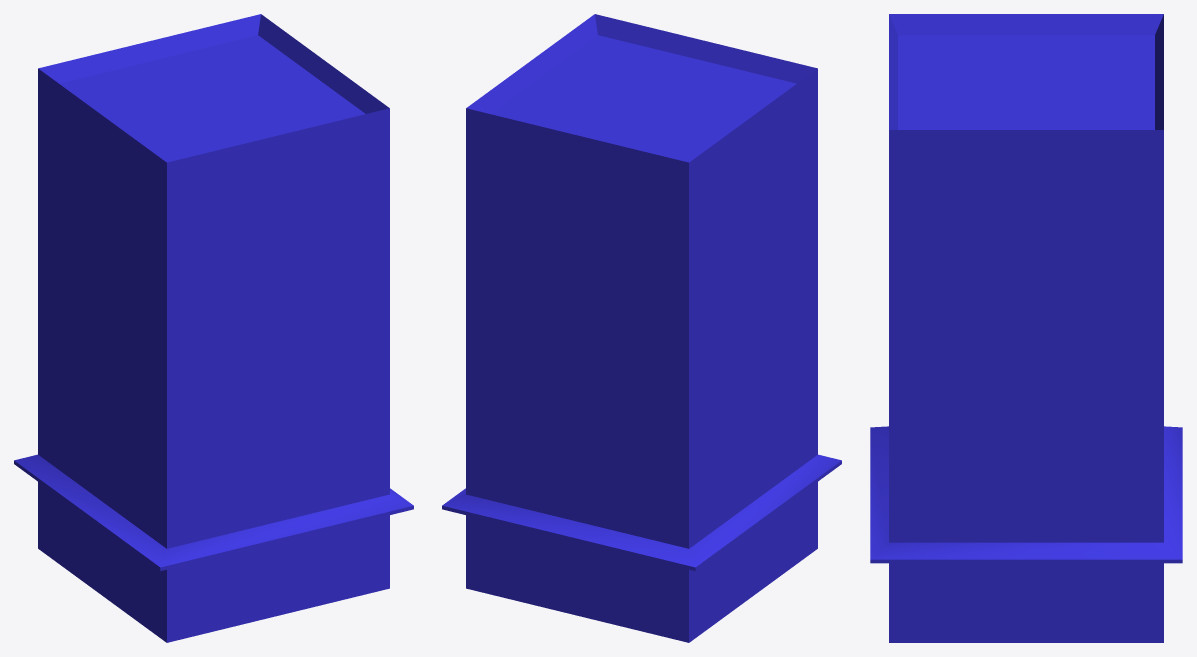
Rendered from cube.011_lev1_lev3.glb.
3 views of the same model, side by side, from view 1: azimuth 30°, elevation 25°; view 2: azimuth 150°, elevation 25°; view 3: azimuth 270°, elevation 25° (orthographic). The views are drawn at different scales.
Parts seen in each view (by area): view 1: cube.011_lev1_lev3; view 2: cube.011_lev1_lev3; view 3: cube.011_lev1_lev3.
Part boxes in pixels (bbox=[...]): cube.011_lev1_lev3: bbox=[14, 14, 413, 642]; cube.011_lev1_lev3: bbox=[442, 14, 841, 642]; cube.011_lev1_lev3: bbox=[870, 14, 1182, 642].
Bounding box in the file's own units: 4.07 × 7.36 × 4.07.
